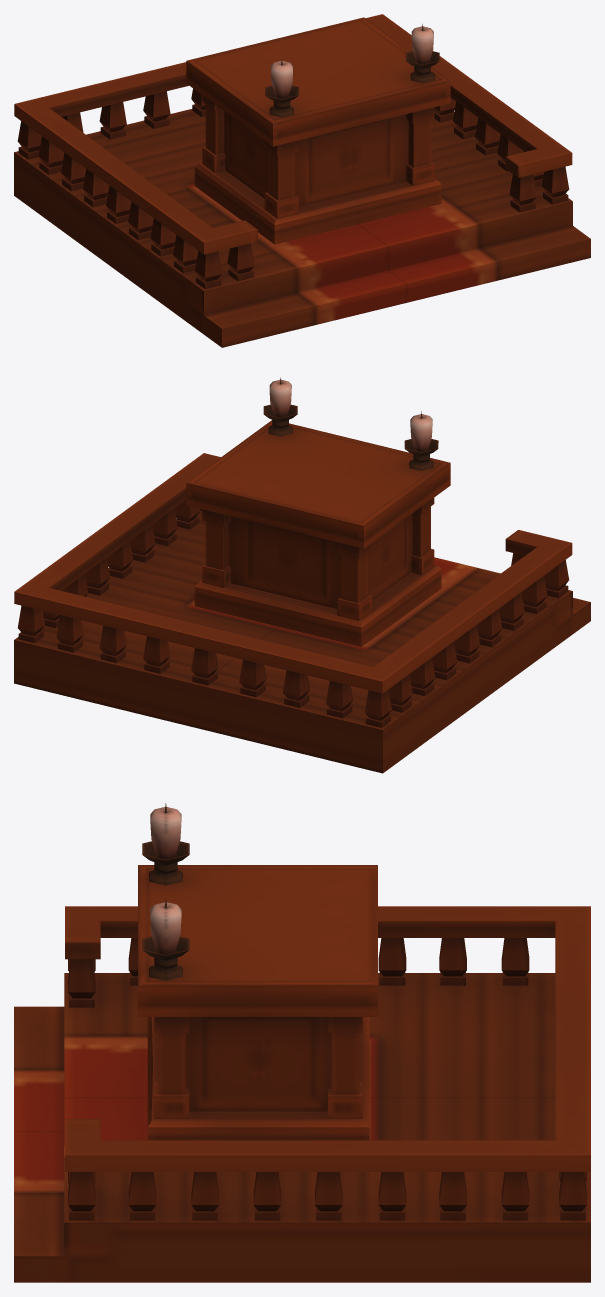
Rendered from Church_Table_F.FBX.
3 views of the same model, one above another, from view 1: azimuth 30°, elevation 25°; view 2: azimuth 150°, elevation 25°; view 3: azimuth 270°, elevation 25° (orthographic). The views are drawn at different scales.
Parts seen in each view (by area): view 1: Church_Table_F; view 2: Church_Table_F; view 3: Church_Table_F.
Boxes of the visible parts, bbox=[...] form: Church_Table_F: bbox=[14, 14, 590, 347]; Church_Table_F: bbox=[14, 377, 590, 773]; Church_Table_F: bbox=[14, 803, 590, 1282].
Size of the model in its own units: 125 by 71.86 by 122.
